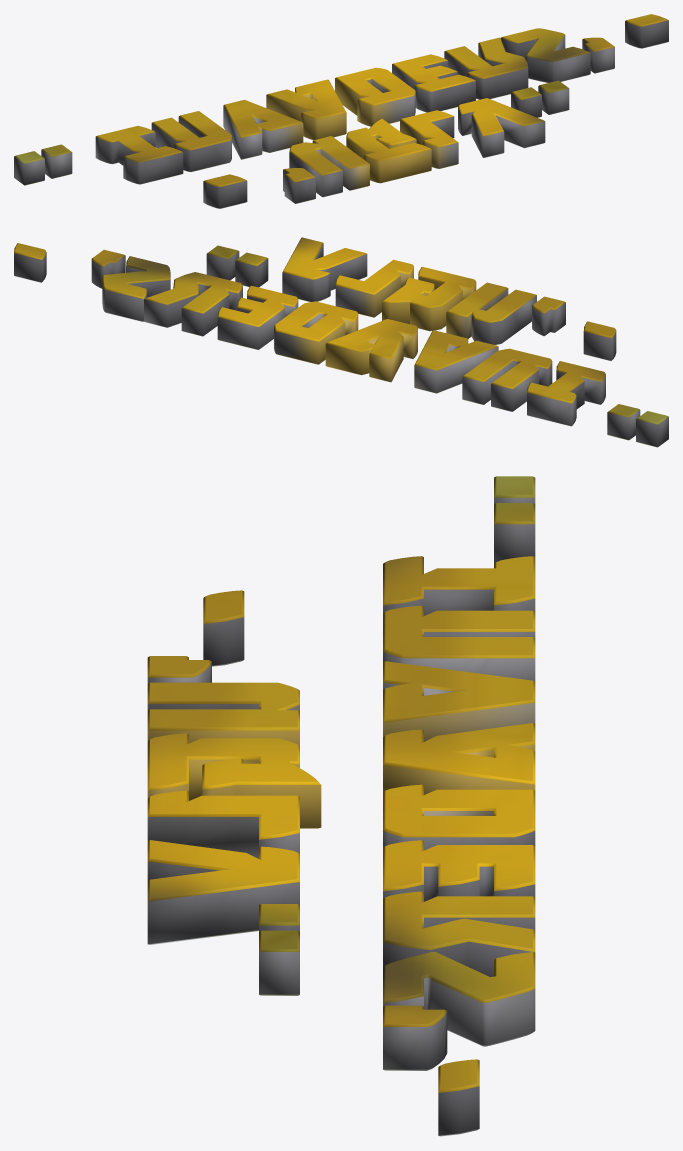
Rendered from UglyInvaders.glb.
3 views of the same model, one above another, from view 1: azimuth 30°, elevation 25°; view 2: azimuth 150°, elevation 25°; view 3: azimuth 270°, elevation 25° (orthographic). The views are drawn at different scales.
Visible parts, largest first — view 1: Logo; view 2: Logo; view 3: Logo.
Part boxes in pixels (x1,y1,x2,y2): Logo: (14, 14, 668, 208); Logo: (14, 237, 668, 447); Logo: (147, 476, 535, 1136).
Bounding box in the file's own units: 6.19 × 0.22 × 1.65.
1 material, 1 textured.
